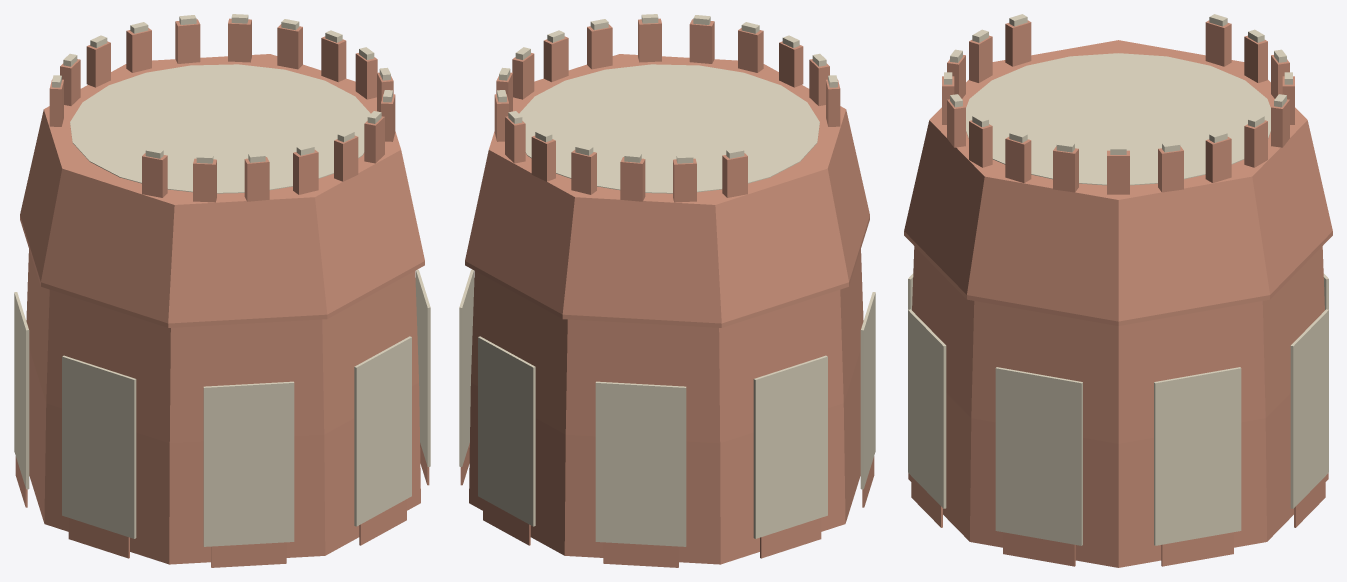
File: kit_burj.glb
3 renders of one model, left to right at view 1: azimuth 30°, elevation 25°; view 2: azimuth 150°, elevation 25°; view 3: azimuth 270°, elevation 25°, orthographic. The views are drawn at different scales.
Parts seen in each view (by area): view 1: kit_burj; view 2: kit_burj; view 3: kit_burj.
Part boxes in pixels (x1=…): kit_burj: x1=14, y1=14, x2=430, y2=567; kit_burj: x1=459, y1=14, x2=875, y2=567; kit_burj: x1=904, y1=14, x2=1332, y2=567.
Bounding box in the file's own units: 11.04 × 11.46 × 11.04.
